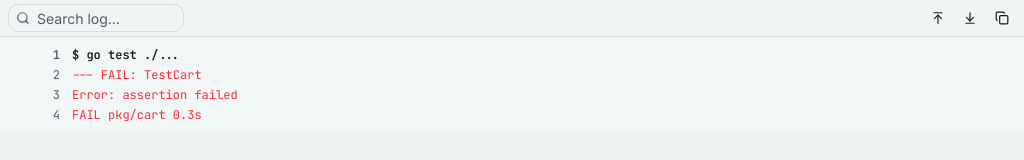
Test: LogPane › renders zero-match state without crashing
The image size is (1024, 160).
In the field labelled "Search log": (96, 18) [8,4,184,32], type "nonexistent-token"
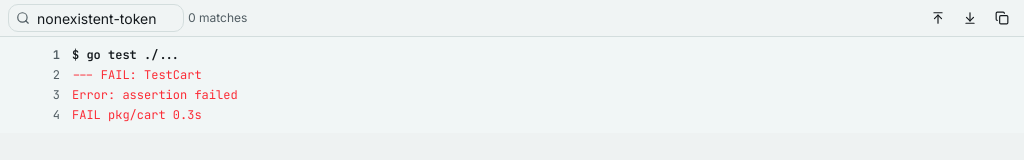
Expected: the text "0 matches" is shown, [188,10,247,26]
